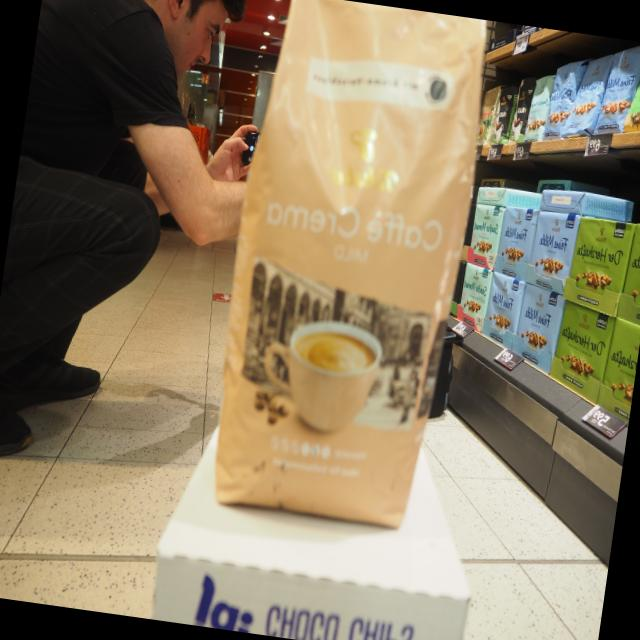CC Mild: (196, 0, 502, 537)
